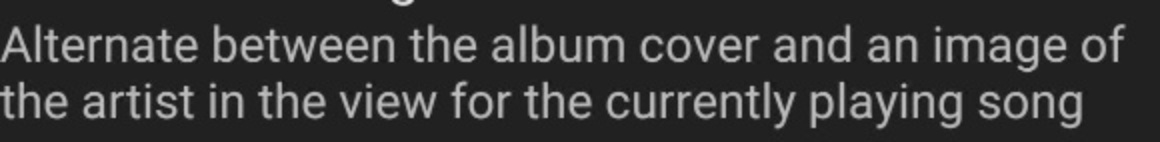TextView: (1, 1, 1159, 141)
